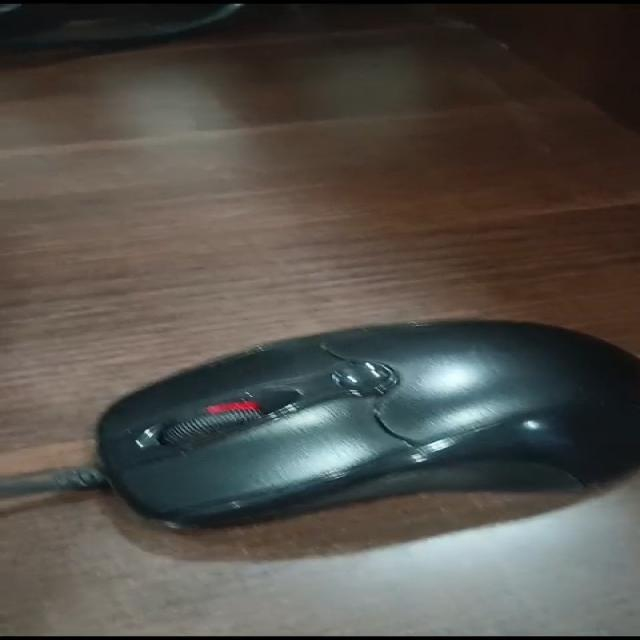mouse: (35, 316, 640, 534)
